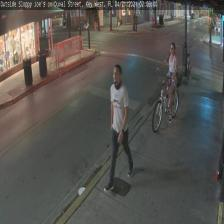person: (104, 64, 134, 192), (157, 42, 177, 122)
